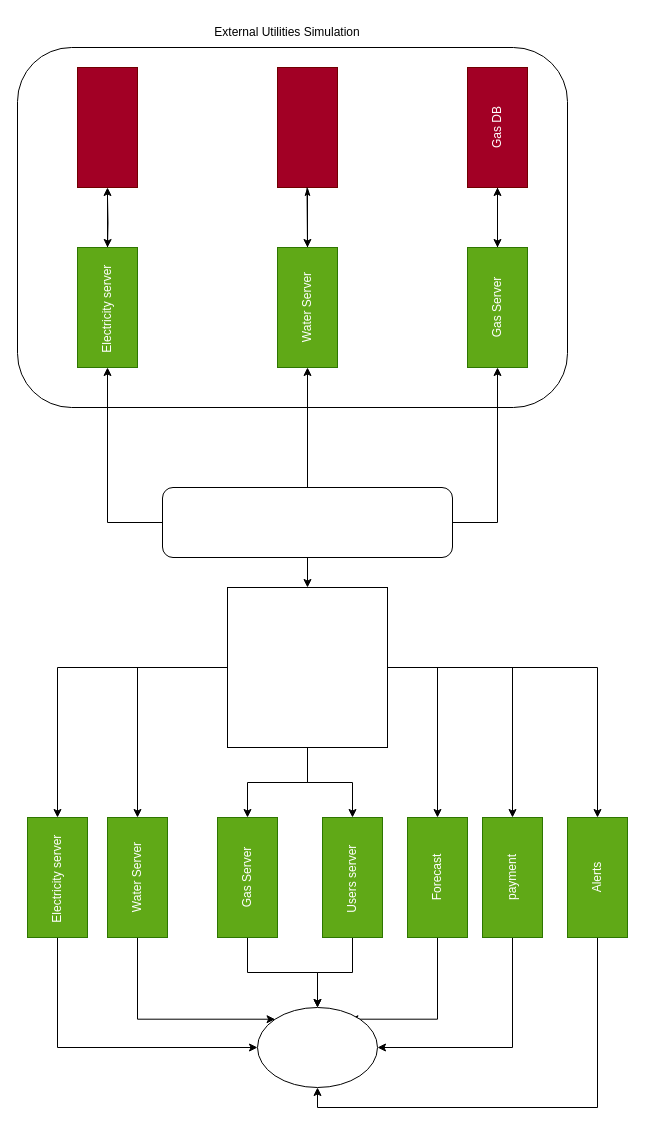
This 645x1133 diagram has some shape labels left out. Here are the shapes that lost their labels. From the top down, the centre of each, then its label:
(x=107, y=127): Electricity DB
(x=307, y=127): Water DB
(x=307, y=522): Data collector
(x=307, y=667): Unified DB
(x=317, y=1047): FRONT END
